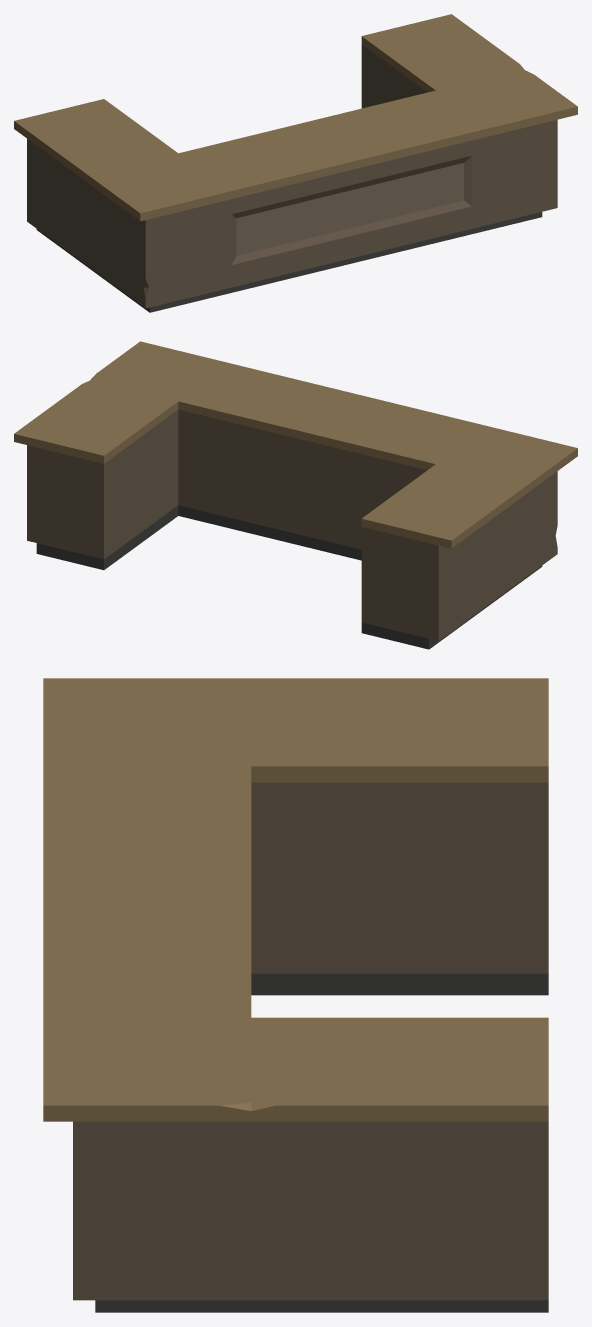
Rendered from SM_Props_Interior_Shop_Counter_05.fbx.
3 views of the same model, one above another, from view 1: azimuth 30°, elevation 25°; view 2: azimuth 150°, elevation 25°; view 3: azimuth 270°, elevation 25° (orthographic). The views are drawn at different scales.
Parts seen in each view (by area): view 1: SM_Props_Interior_Shop_Counter_05; view 2: SM_Props_Interior_Shop_Counter_05; view 3: SM_Props_Interior_Shop_Counter_05.
Boxes of the visible parts, <box> form: SM_Props_Interior_Shop_Counter_05: <box>14,14,577,312</box>; SM_Props_Interior_Shop_Counter_05: <box>14,341,577,649</box>; SM_Props_Interior_Shop_Counter_05: <box>43,678,548,1312</box>.
Bounding box in the file's own units: 340 × 85 × 170.
